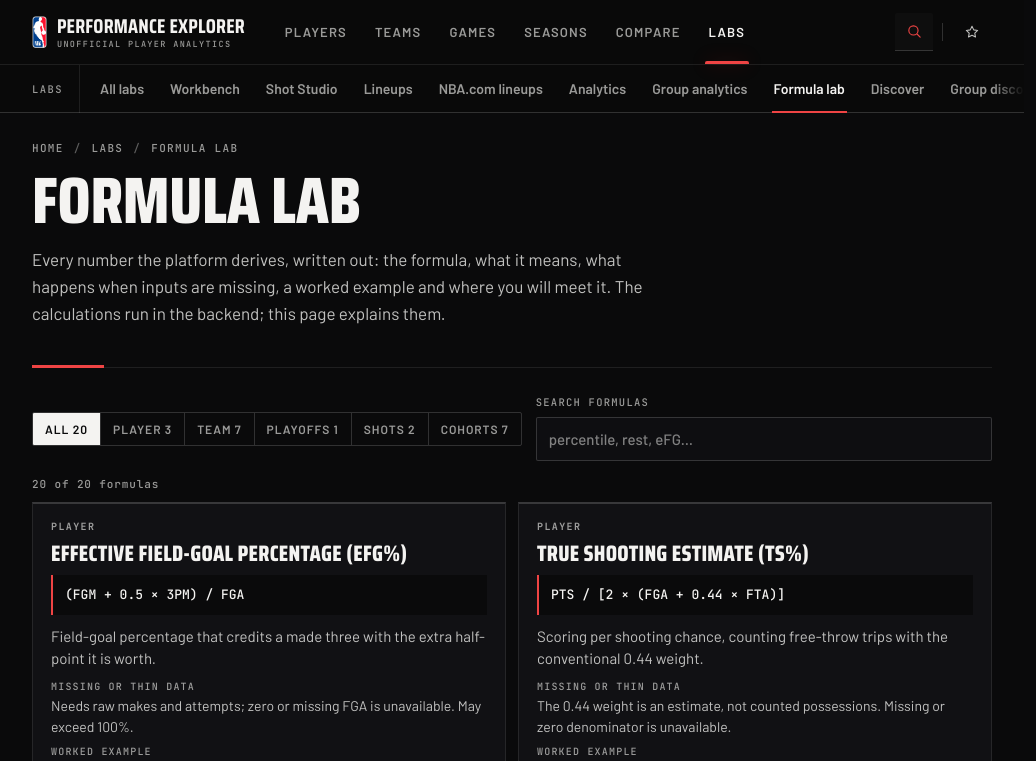
Scenario: formula lab › lists every formula and filters by area and search, kept in the URL
Expected: the heading "Formula lab" is shown, [32,149,361,252]
Step 1. Click the button "Playoffs 1" → click(302, 428), box [254,412,351,444]
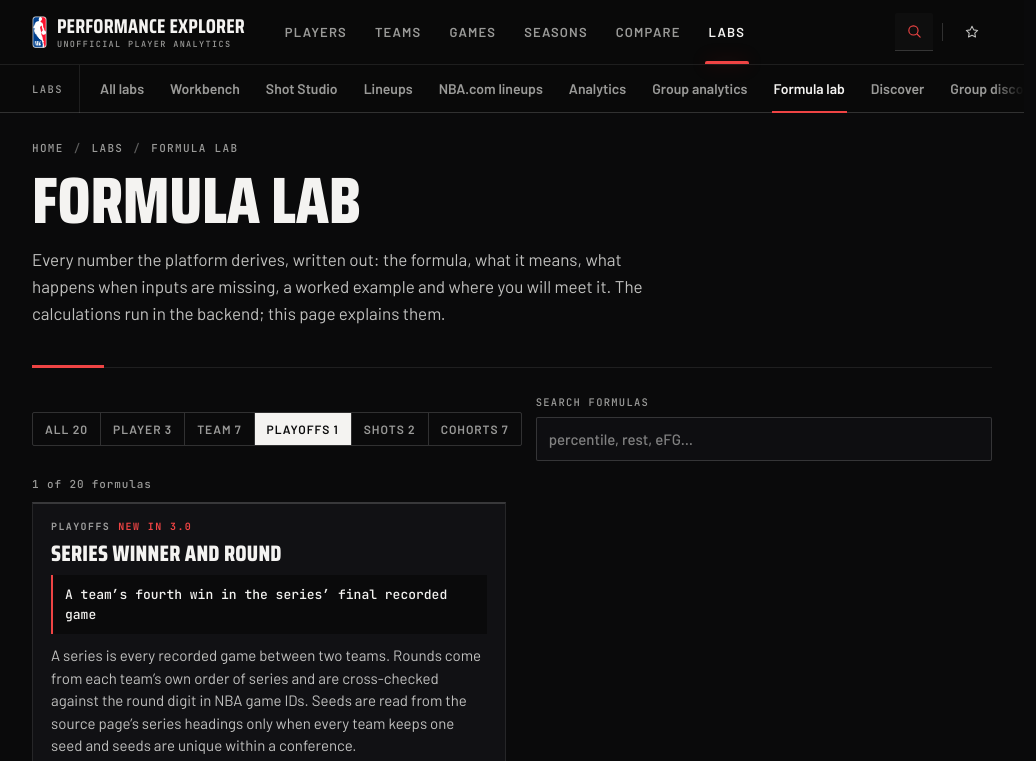
Expected: the text "New in 3.0" is shown, [118,522,192,532]
Step 2. Click the button "All 20" → click(67, 428), box [33,412,100,444]
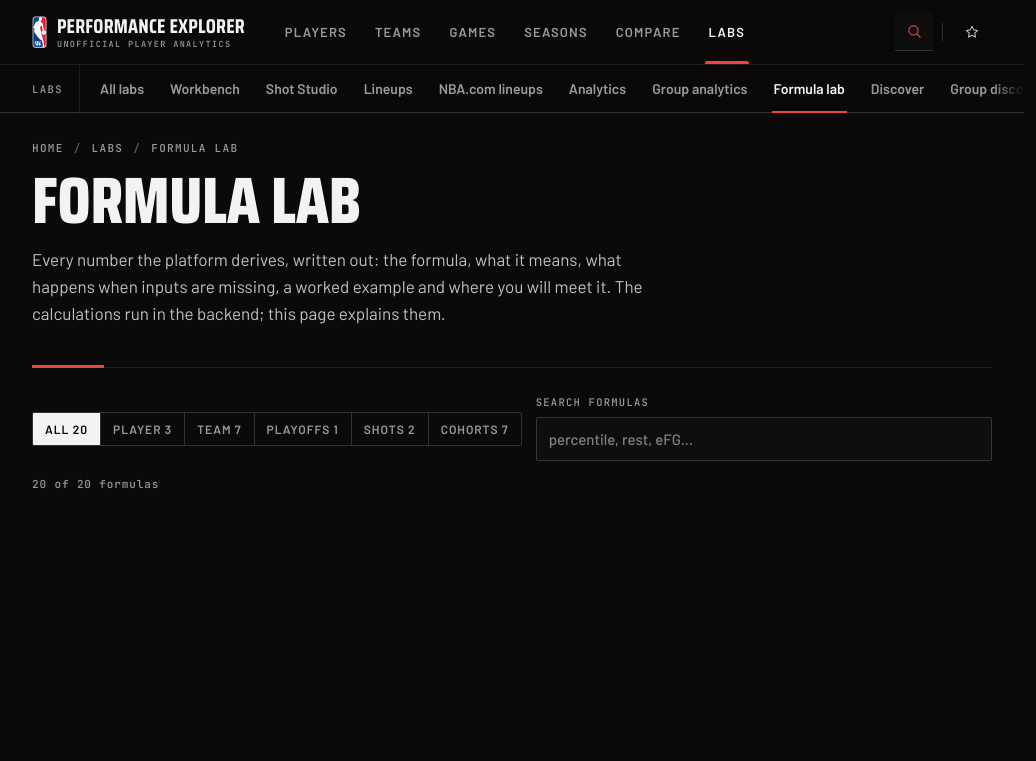
Step 3. Type "back-to-back" into the search field labelled "Search formulas" → (764, 439), box [536,417,992,461]
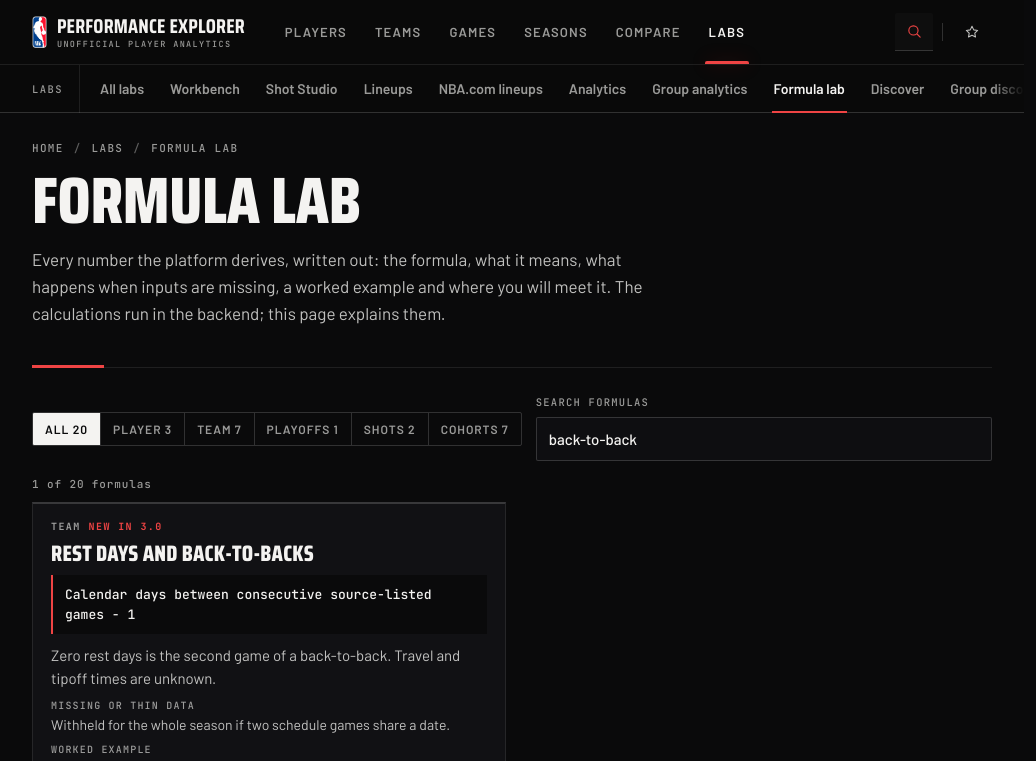
Step 4. Replace the text in the search field labelled "Search formulas" with "zzzz" → (764, 439), box [536,417,992,461]
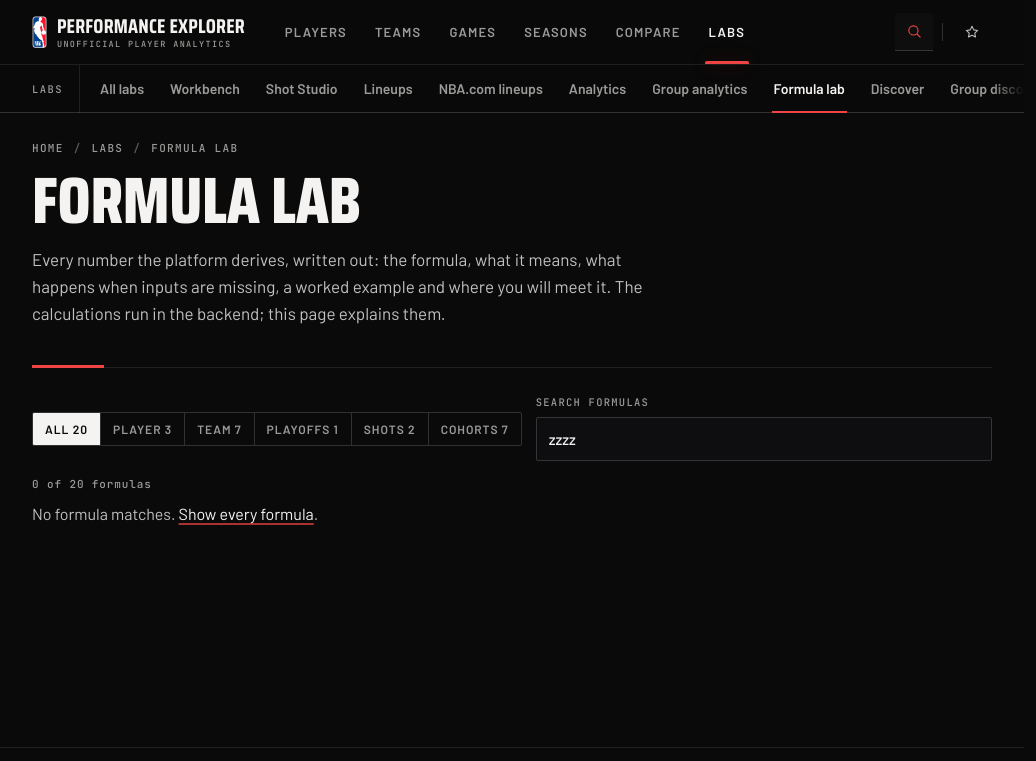
Now the text "No formula matches. Show every formula ." is shown, box [32,504,318,523]
